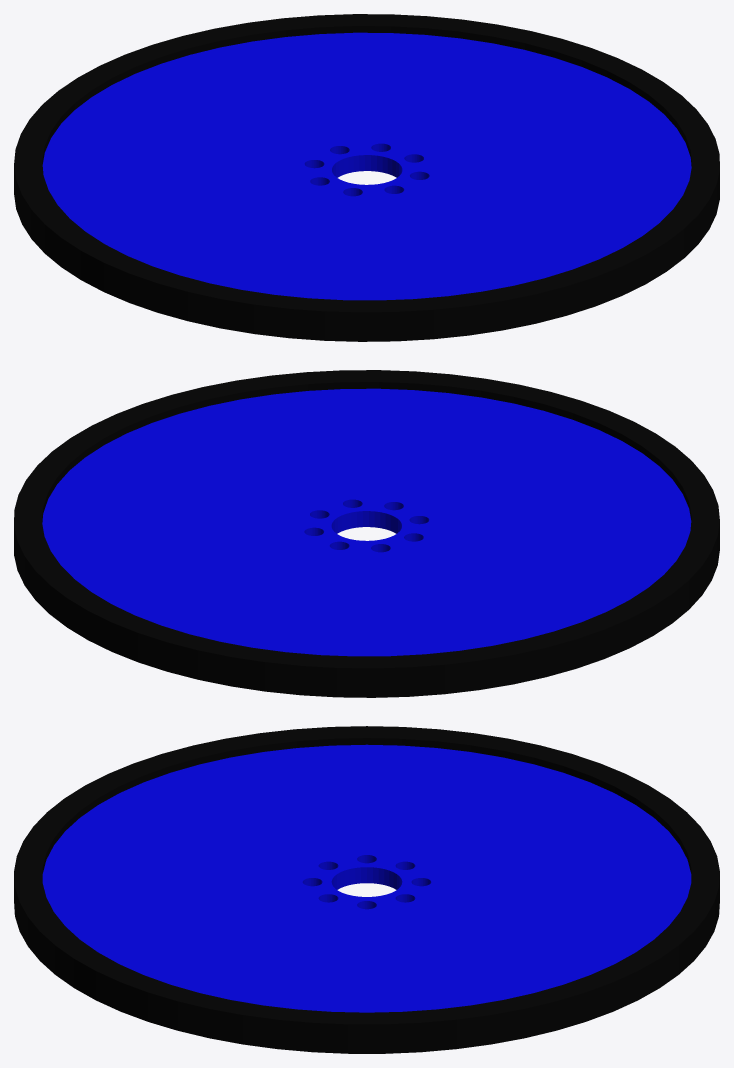
The picture shows the model from 3 angles, top to bottom: view 1: azimuth 30°, elevation 25°; view 2: azimuth 150°, elevation 25°; view 3: azimuth 270°, elevation 25°; orthographic projection.
Parts seen in each view (by area): view 1: ROB-12134; view 2: ROB-12134; view 3: ROB-12134.
Boxes of the visible parts, left/top/right/bottom form: ROB-12134: left=14, top=14, right=719, bottom=341; ROB-12134: left=14, top=370, right=719, bottom=697; ROB-12134: left=14, top=726, right=719, bottom=1053.
Bounding box in the file's own units: 127 × 127 × 5.84.
